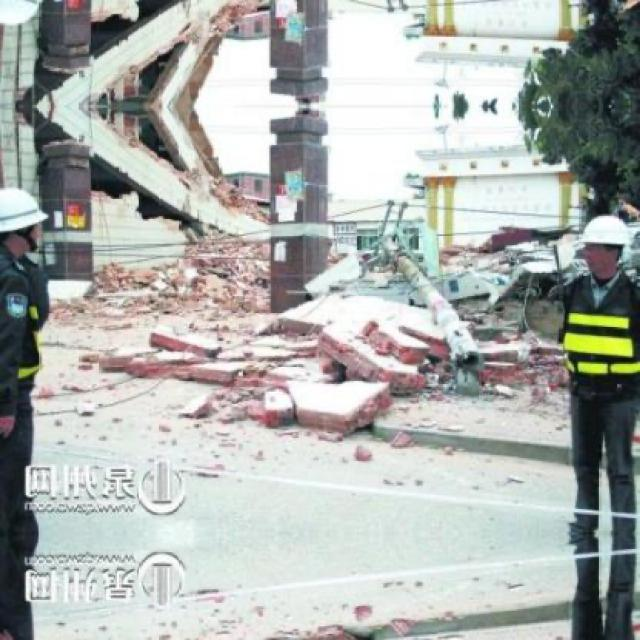helmet: (577, 208, 635, 279), (3, 184, 49, 259), (2, 0, 49, 31)
